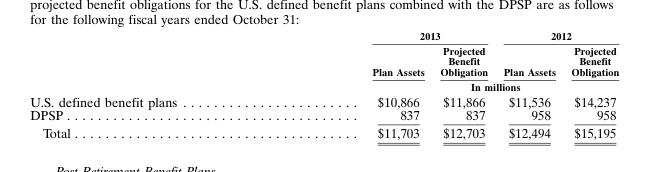table: (29, 28, 618, 140)
table column: (29, 28, 273, 140), (273, 28, 431, 140), (494, 28, 562, 140), (431, 28, 494, 140), (562, 28, 618, 140)
table column header: (29, 28, 618, 93)
table row: (29, 42, 618, 78), (29, 123, 618, 140), (29, 107, 618, 123), (29, 78, 618, 93), (29, 28, 618, 42), (29, 93, 618, 107)
table spanning cell: (273, 78, 618, 93), (273, 28, 494, 42), (494, 28, 618, 42)
